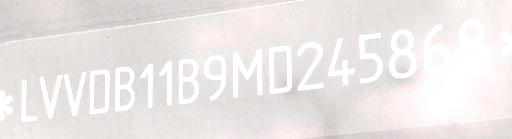letter: (326, 36, 358, 97), (386, 26, 420, 83), (453, 17, 489, 70), (420, 21, 452, 78), (229, 47, 263, 100), (264, 44, 296, 97), (296, 41, 326, 94), (358, 29, 386, 84), (200, 52, 226, 101), (176, 55, 200, 106), (87, 65, 111, 116), (62, 69, 86, 118), (111, 62, 133, 115), (135, 59, 157, 110), (38, 75, 60, 120), (157, 56, 175, 107), (19, 77, 39, 122)
